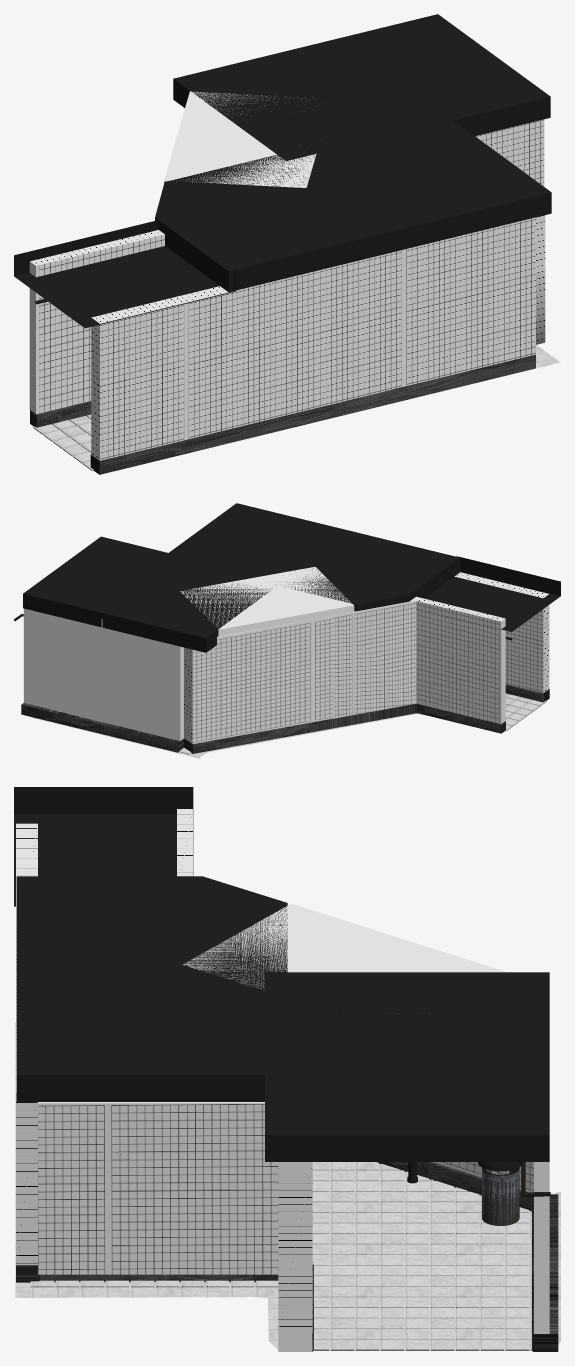
Rendered from metrosubway_station_interior 1.glb.
3 renders of one model, top to bottom at view 1: azimuth 30°, elevation 25°; view 2: azimuth 150°, elevation 25°; view 3: azimuth 270°, elevation 25°, orthographic. The views are drawn at different scales.
Parts seen in each view (by area): view 1: Cube.001_2, Plane.016_55, Cube_1, Plane.017_56, Cube.002_3, Plane.004_42, Cube.003_4, Plane.011_50, Plane.002_41, Plane_0, Plane.005_43, Plane.015_54; view 2: Plane.001_40, Cube_1, Cube.001_2, Plane.006_44, Plane.004_42, Cube.003_4, Cube.002_3, Plane.016_55, Plane.012_51, Plane_0, Plane.013_52, Plane.014_53 (+2 smaller); view 3: Cube.001_2, Cube_1, Plane_0, Plane.005_43, Cube.002_3, Cube.003_4, Plane.002_41, Plane.017_56, Plane.006_44, Plane.022_37, Plane.012_51, Plane.003_48 (+4 smaller).
Boxes of the visible parts, x1,y1,x2,y2 form: Cube.001_2: (155,120,551,292); Plane.016_55: (91,270,318,460); Cube_1: (173,14,550,160); Plane.017_56: (318,217,535,407); Cube.002_3: (14,220,235,328); Plane.004_42: (29,230,164,414); Cube.003_4: (164,91,316,187); Plane.011_50: (90,354,535,474); Plane.002_41: (475,119,544,186); Plane_0: (33,345,560,471); Plane.005_43: (536,215,545,344); Plane.015_54: (30,401,91,427); Plane.001_40: (184,600,416,743); Cube_1: (23,536,272,652); Cube.001_2: (167,503,460,611); Plane.006_44: (23,608,183,740); Plane.004_42: (412,596,505,724); Cube.003_4: (180,567,354,636); Cube.002_3: (416,556,560,631); Plane.016_55: (454,572,549,692); Plane.012_51: (21,703,183,752); Plane_0: (29,693,546,758); Plane.013_52: (184,718,332,753); Plane.014_53: (279,703,416,738); Cube.001_2: (16,876,287,1101); Cube_1: (265,972,549,1161); Plane_0: (15,1023,560,1350); Plane.005_43: (38,1102,278,1274); Cube.002_3: (14,787,193,906); Cube.003_4: (182,903,505,988); Plane.002_41: (278,1162,312,1351); Plane.017_56: (16,957,37,1265); Plane.006_44: (534,1162,549,1333); Plane.022_37: (478,1162,521,1225); Plane.012_51: (532,1194,558,1351); Plane.003_48: (40,1274,278,1282).
Size of the model in its own units: 17.92 by 5.26 by 11.63.
16 materials, 10 textured.
